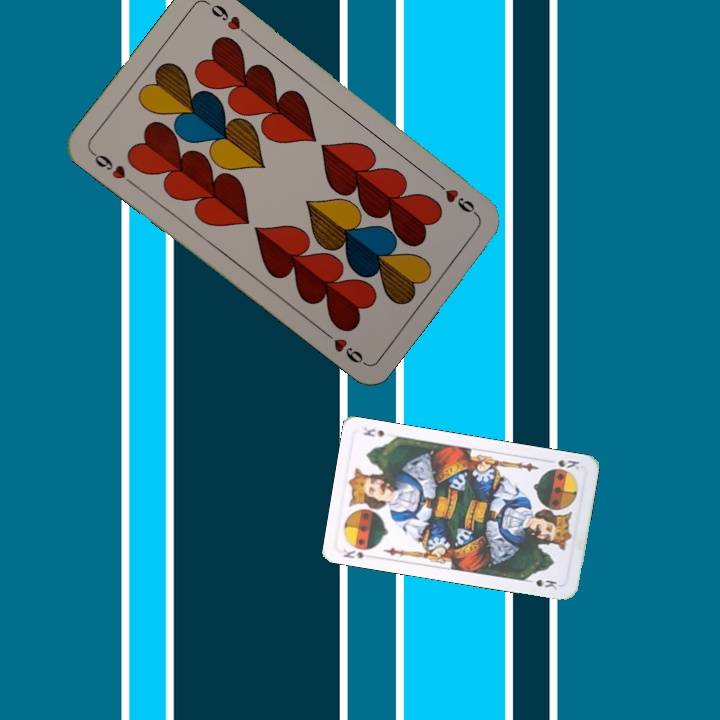H9: (430, 176, 480, 219), (87, 147, 137, 189)
SK: (339, 545, 377, 561), (554, 455, 582, 472)
